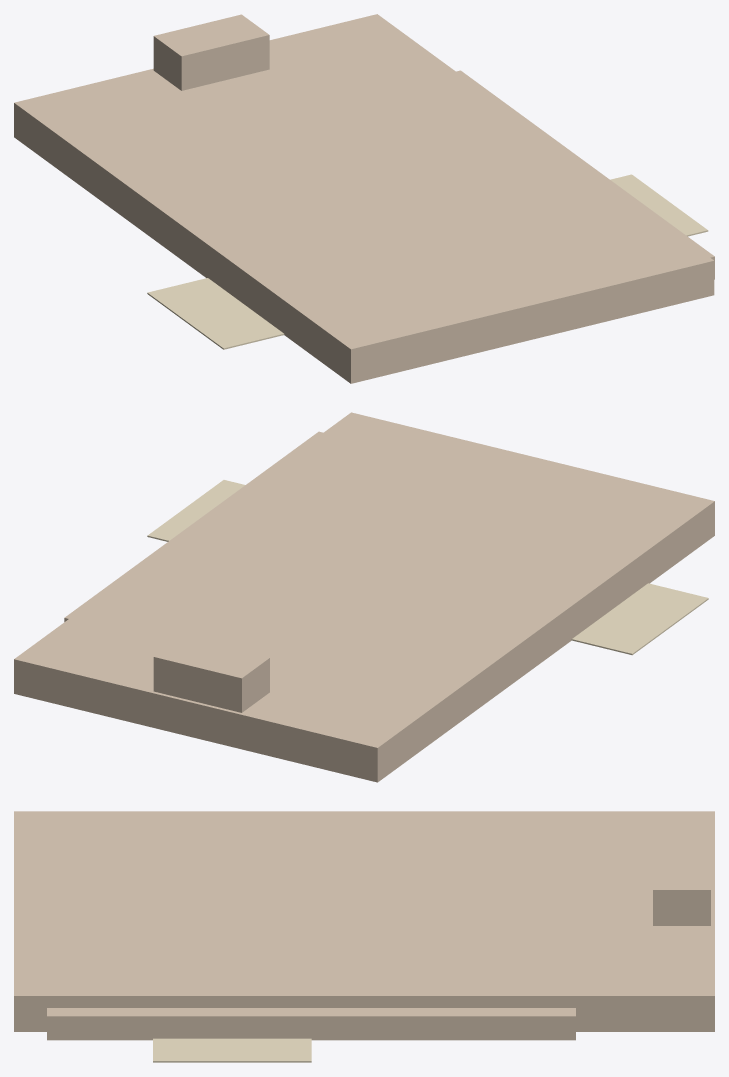
Rendered from prop-nib-tile-blank.fbx.
3 renders of one model, top to bottom at view 1: azimuth 30°, elevation 25°; view 2: azimuth 150°, elevation 25°; view 3: azimuth 270°, elevation 25°, orthographic. The views are drawn at different scales.
Parts seen in each view (by area): view 1: prop-nib-tile-blank; view 2: prop-nib-tile-blank; view 3: prop-nib-tile-blank.
Boxes of the visible parts, x1=… form: prop-nib-tile-blank: x1=14, y1=14, x2=714, y2=383; prop-nib-tile-blank: x1=14, y1=412, x2=714, y2=782; prop-nib-tile-blank: x1=14, y1=811, x2=714, y2=1062.
Size of the model in its own units: 22 by 3 by 26.5.
